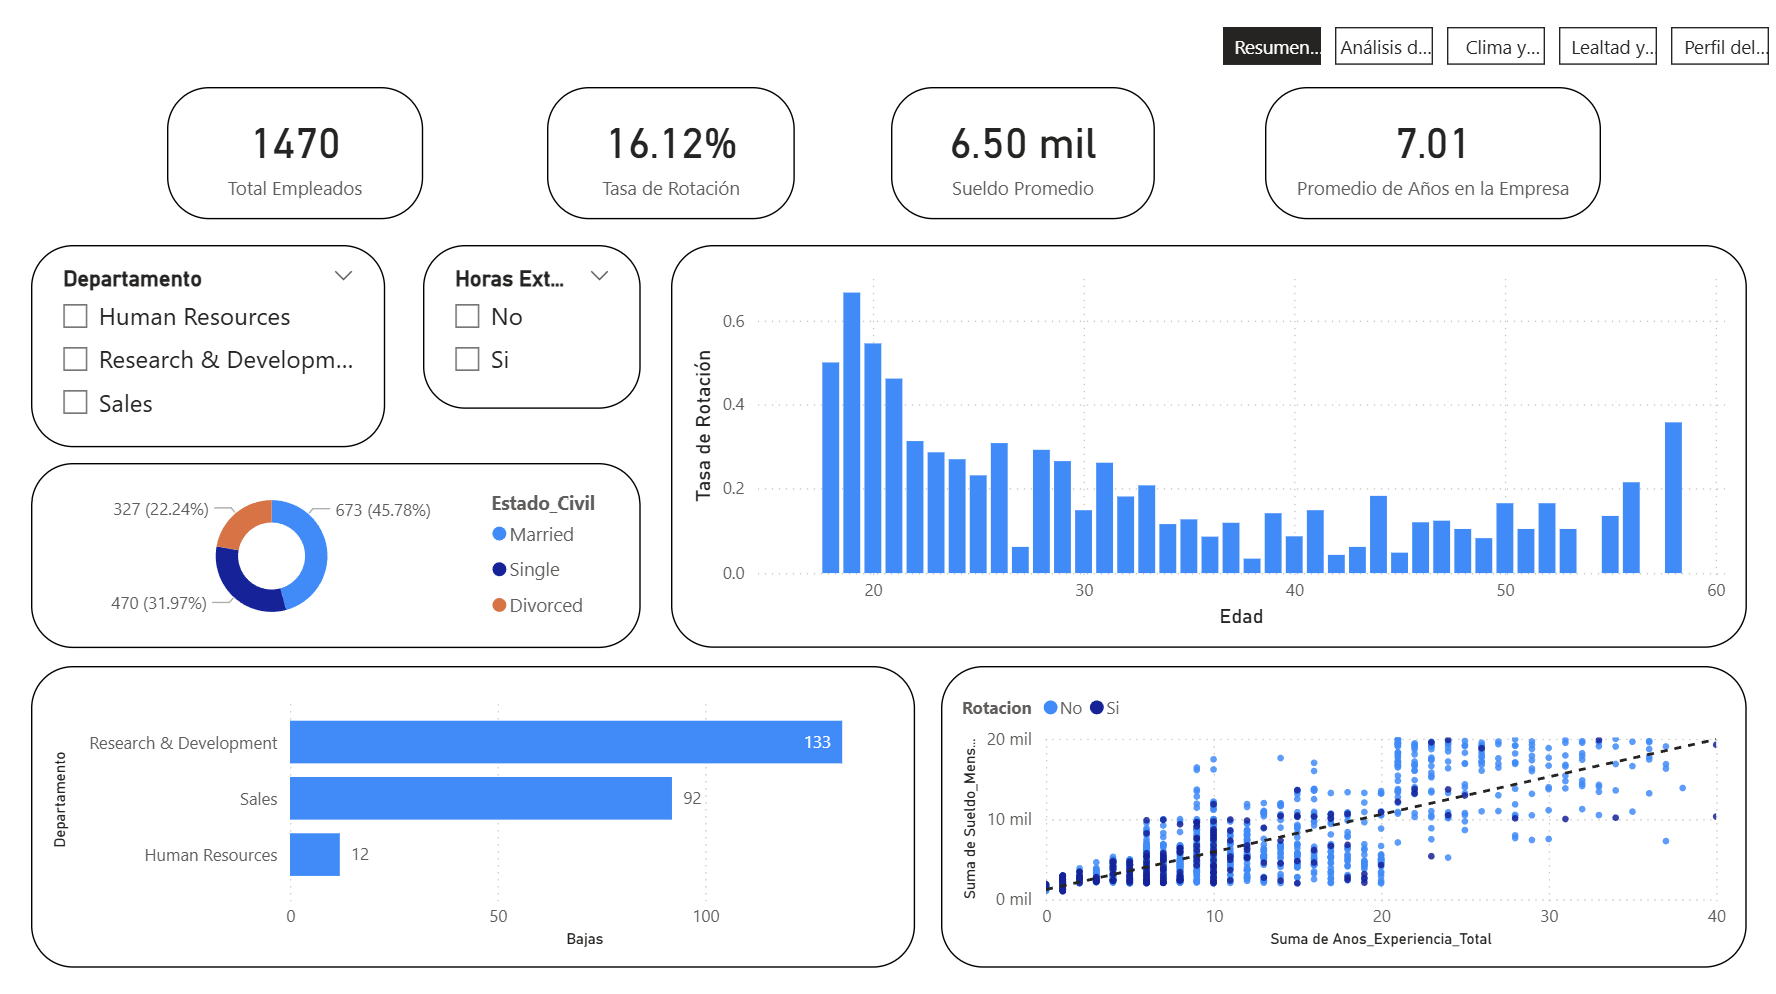

This screenshot's page, from the dashboard's own definition file:
{"tool":"powerbi","page":{"name":"Resumen Ejecutivo","canvas":[1280,720],"ordinal":0},"visuals":[{"type":"card","fields":{"Values":["HR_Analytics_Limpio.Total Empleados"]},"box":[122.9,64.3,182.9,94.3],"z":0},{"type":"card","fields":{"Values":["HR_Analytics_Limpio.Tasa de Rotación"]},"box":[394.3,64.3,177.1,94.3],"z":1000},{"type":"card","fields":{"Values":["Avg(HR_Analytics_Limpio.Sueldo_Mensual)"]},"box":[640,64.3,188.6,94.3],"z":2000},{"type":"clusteredBarChart","fields":{"Category":["HR_Analytics_Limpio.Departamento"],"Y":["HR_Analytics_Limpio.Bajas"]},"box":[25.7,477.1,631.4,215.7],"z":3000},{"type":"clusteredColumnChart","fields":{"Category":["HR_Analytics_Limpio.Edad"],"Y":["HR_Analytics_Limpio.Tasa de Rotación"]},"box":[482.9,177.1,768.6,287.1],"z":4000},{"type":"scatterChart","fields":{"X":["Sum(HR_Analytics_Limpio.Anos_Experiencia_Total)"],"Category":["HR_Analytics_Limpio.ID_Empleado"],"Y":["Sum(HR_Analytics_Limpio.Sueldo_Mensual)"],"Series":["HR_Analytics_Limpio.Rotacion"]},"box":[675.7,477.1,575.7,215.7],"z":5000},{"type":"slicer","fields":{"Values":["HR_Analytics_Limpio.Departamento"]},"box":[25.7,177.1,252.9,144.3],"z":6000},{"type":"card","fields":{"Values":["Avg(HR_Analytics_Limpio.Anos_en_Empresa)"]},"box":[907.1,64.3,240,94.3],"z":7000},{"type":"slicer","fields":{"Values":["HR_Analytics_Limpio.Horas_Extra"]},"box":[305.7,177.1,155.7,117.1],"z":8000},{"type":"donutChart","fields":{"Y":["CountNonNull(HR_Analytics_Limpio.Estado_Civil)"],"Category":["HR_Analytics_Limpio.Estado_Civil"]},"box":[25.7,332.9,435.7,131.4],"z":9000},{"type":"pageNavigator","box":[877.1,21.4,390,27.1],"z":10000}]}

Visuals, with their boxes in screenshot pixels (x1, y1, x2, y2), scaled from the page's 1280x720 canvas onto the 1776x994 screenshot:
card - HR_Analytics_Limpio.Total Empleados: region(171, 89, 424, 219)
card - HR_Analytics_Limpio.Tasa de Rotación: region(547, 89, 793, 219)
card - Avg(HR_Analytics_Limpio.Sueldo_Mensual): region(888, 89, 1150, 219)
clusteredBarChart - HR_Analytics_Limpio.Departamento x HR_Analytics_Limpio.Bajas: region(36, 659, 912, 956)
clusteredColumnChart - HR_Analytics_Limpio.Edad x HR_Analytics_Limpio.Tasa de Rotación: region(670, 244, 1736, 641)
scatterChart - Sum(HR_Analytics_Limpio.Anos_Experiencia_Total) x HR_Analytics_Limpio.ID_Empleado: region(938, 659, 1736, 956)
slicer - HR_Analytics_Limpio.Departamento: region(36, 244, 387, 444)
card - Avg(HR_Analytics_Limpio.Anos_en_Empresa): region(1259, 89, 1592, 219)
slicer - HR_Analytics_Limpio.Horas_Extra: region(424, 244, 640, 406)
donutChart - CountNonNull(HR_Analytics_Limpio.Estado_Civil) x HR_Analytics_Limpio.Estado_Civil: region(36, 460, 640, 641)
pageNavigator: region(1217, 30, 1758, 67)
